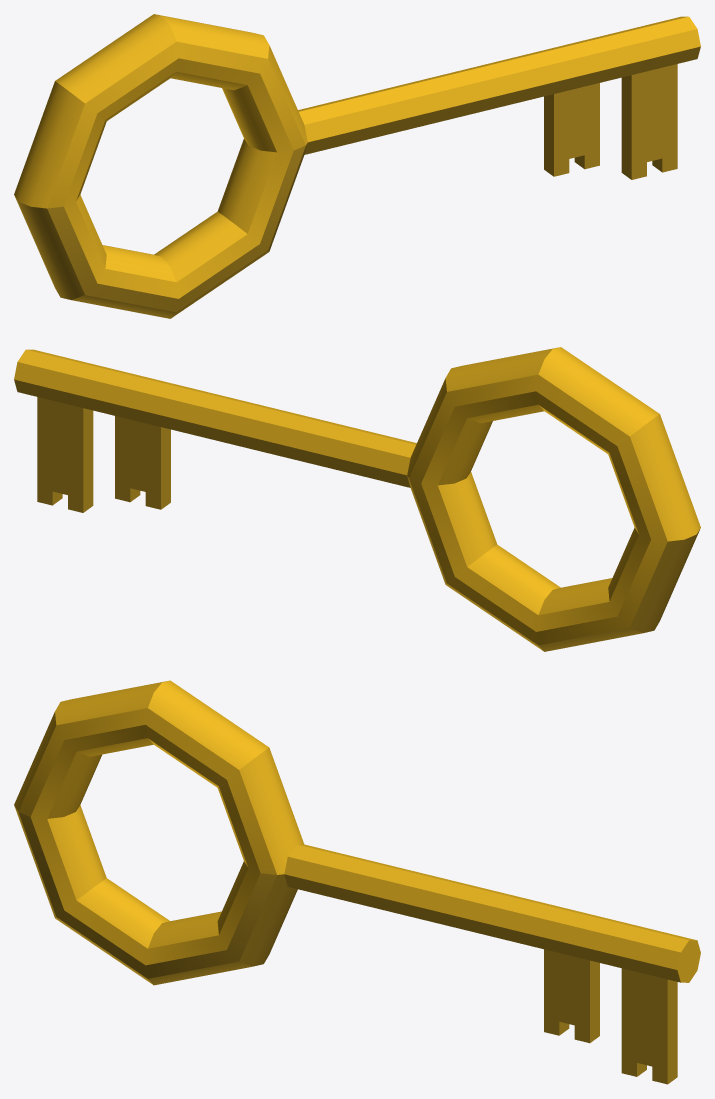
Rendered from Chave_AMARELO.fbx.
3 renders of one model, top to bottom at view 1: azimuth 30°, elevation 25°; view 2: azimuth 150°, elevation 25°; view 3: azimuth 330°, elevation 25°, orthographic.
Visible parts, largest first — view 1: Torus.002; view 2: Torus.002; view 3: Torus.002.
Boxes of the visible parts, x1,y1,x2,y2 form: Torus.002: (14, 14, 700, 318); Torus.002: (14, 347, 700, 651); Torus.002: (14, 680, 700, 1084).
Bounding box in the file's own units: 362 × 155 × 30.99.
Materials: 1 (1 with a texture image).
